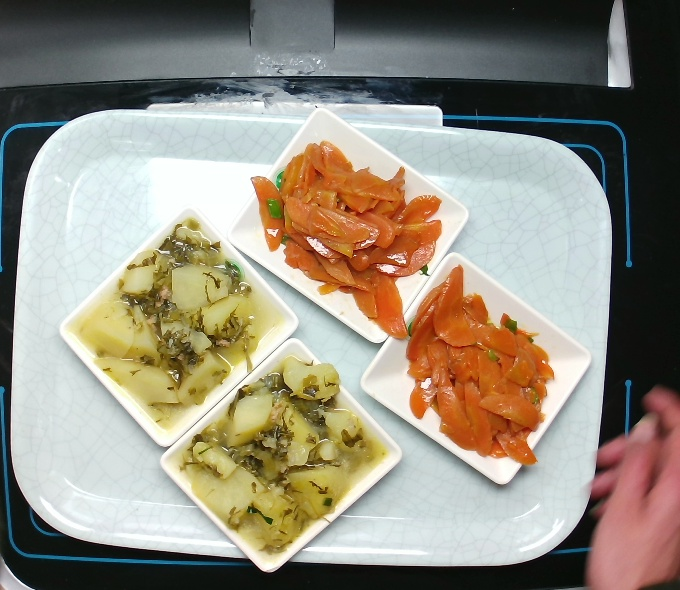wcq-HuLuoBo: (255, 149, 449, 326), (387, 278, 565, 468)
wcq-XueCaiTuDou: (185, 355, 367, 549), (89, 227, 261, 420)
